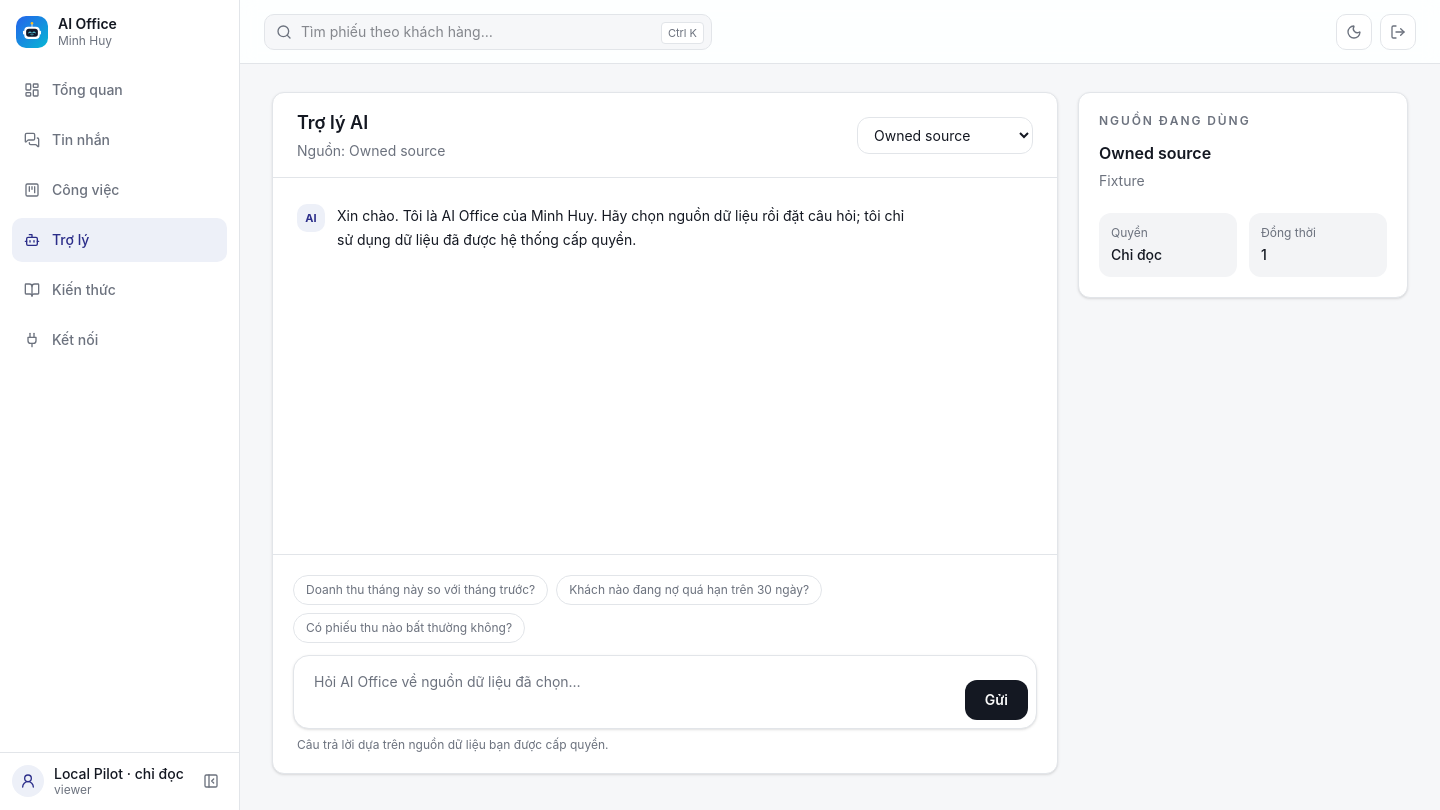
Test: unknown accepted replies retain the request and read-only reconciliation does not resend
The image size is (1440, 810).
Type "Tồn kho 😀 �" into the text box with placeholder "Hỏi AI Office về nguồn dữ liệu đã chọn…" at (627, 692), box top-left (302, 664), bottom-right (953, 720)
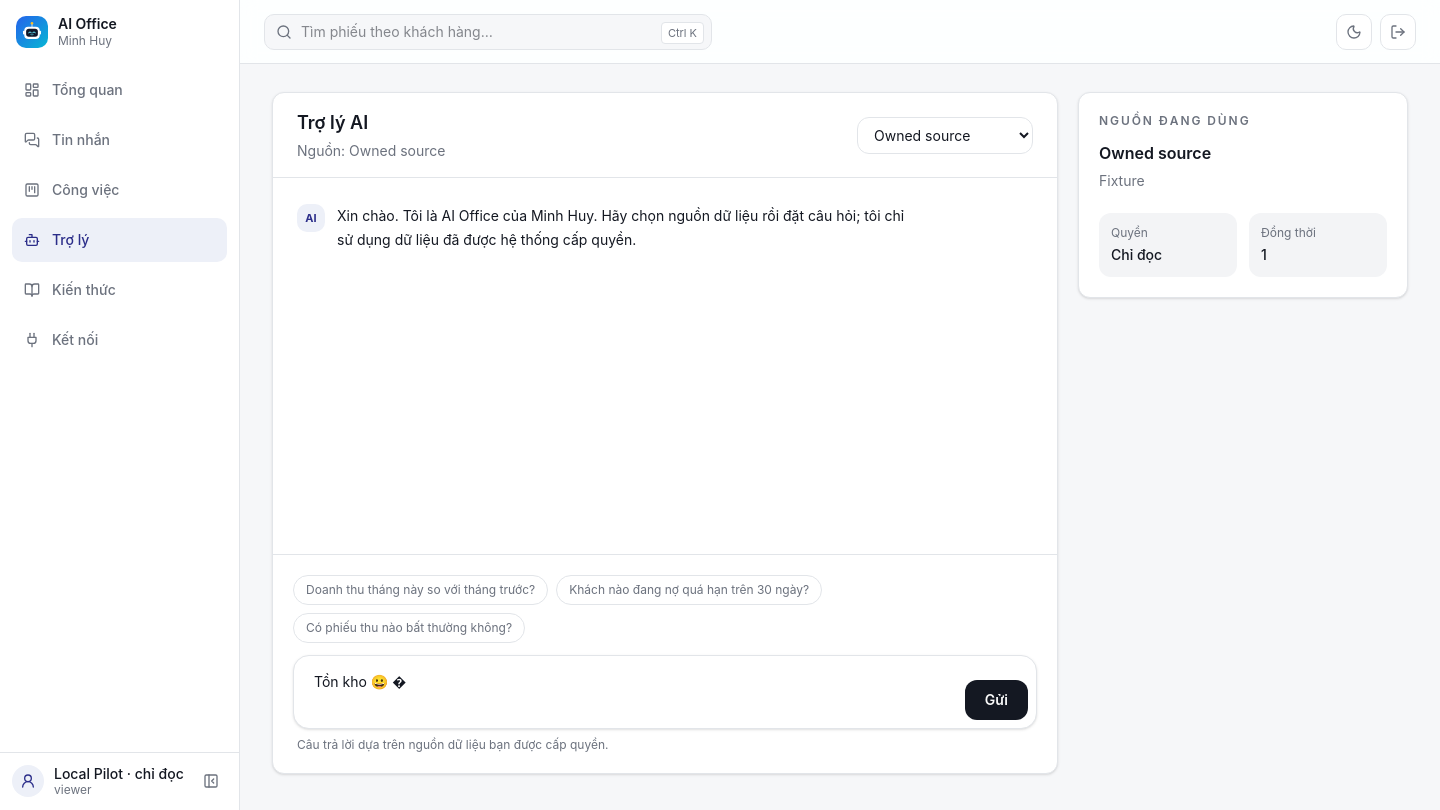
Submit the form that starts with "Doanh thu tháng này so với tháng trước?", box top-left (273, 554), bottom-right (1057, 773)
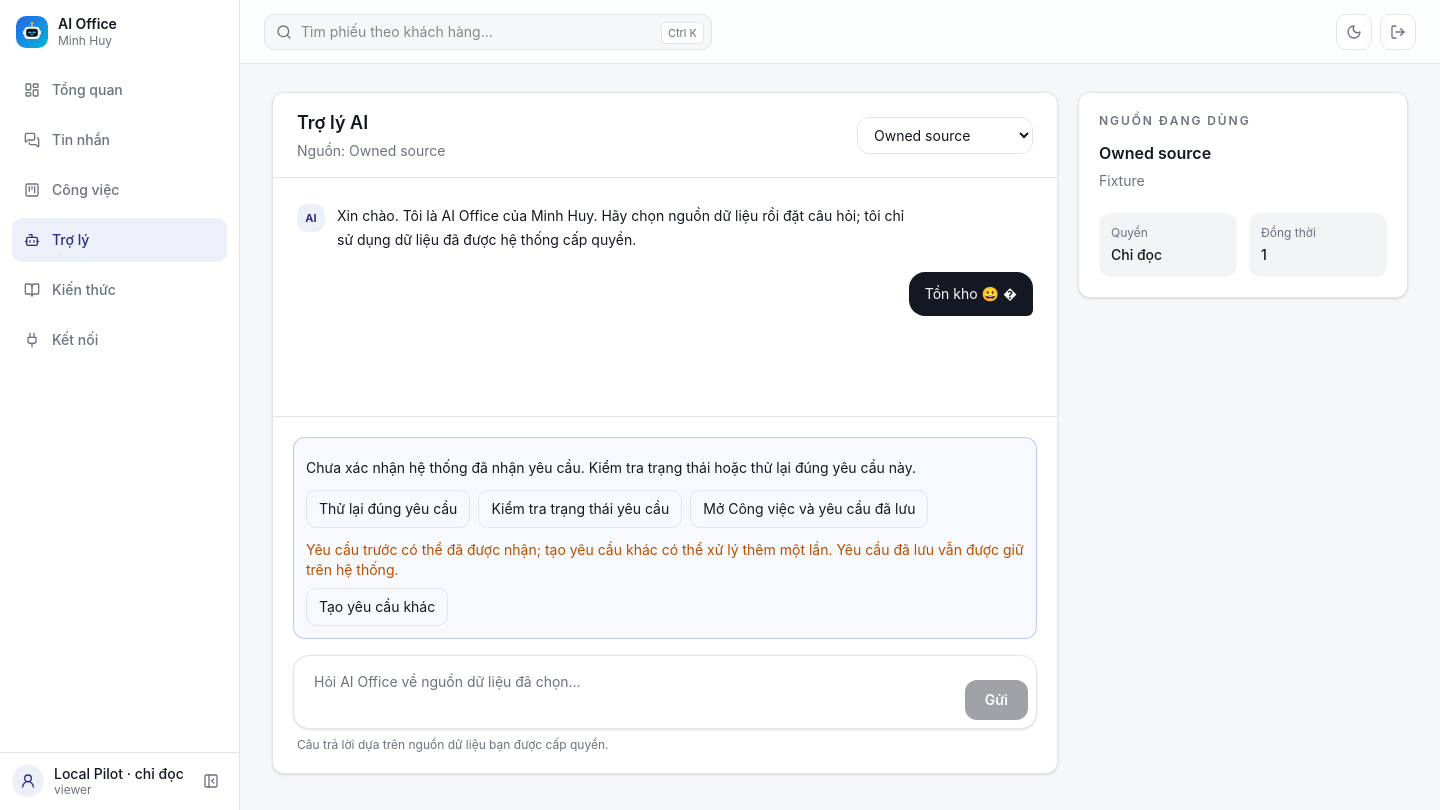
expect the button "Thử lại đúng yêu cầu" is shown: met, box top-left (306, 490), bottom-right (470, 528)
expect the text box with placeholder "Hỏi AI Office về nguồn dữ liệu đã chọn…" is disabled: met, box top-left (302, 664), bottom-right (953, 720)
Click the button "Kiểm tra trạng thái yêu cầu" at (580, 509), box top-left (478, 490), bottom-right (682, 528)
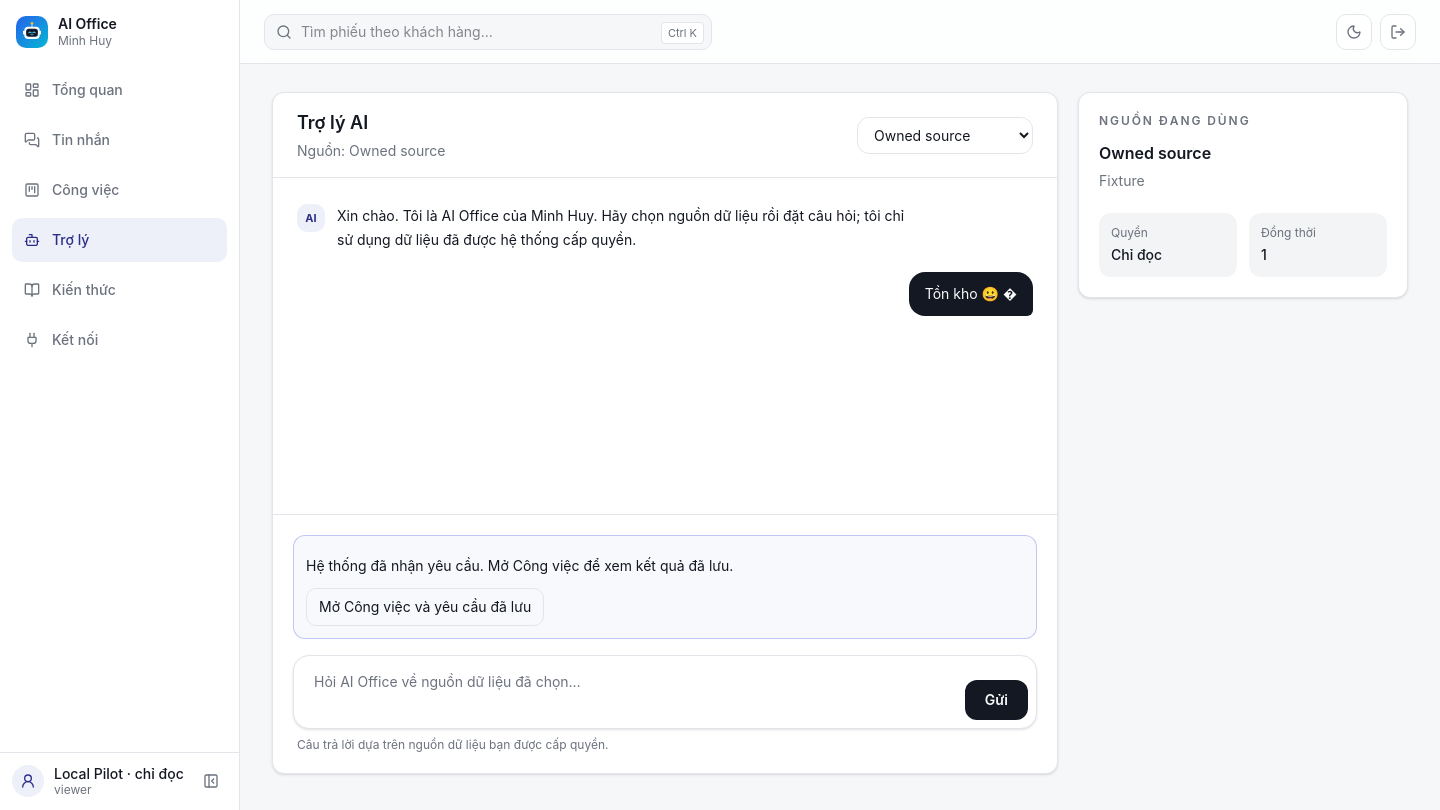
expect the message "Thử lại đúng yêu cầu" is gone: met
